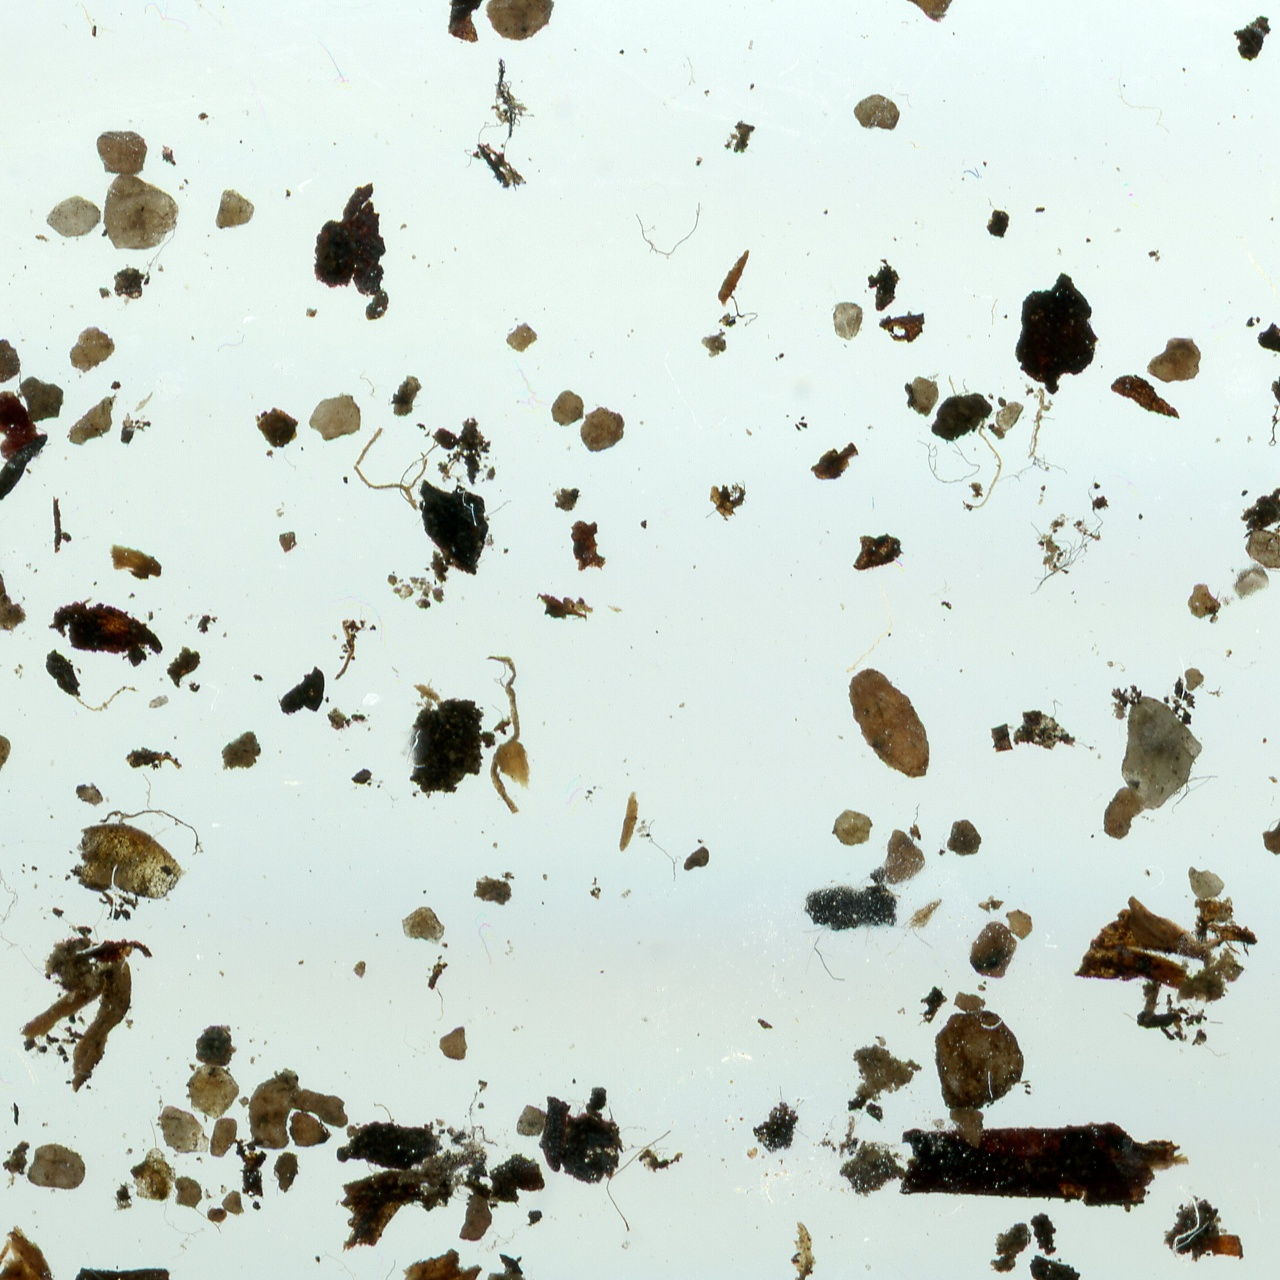arthropod: (0, 1166, 143, 1280)
